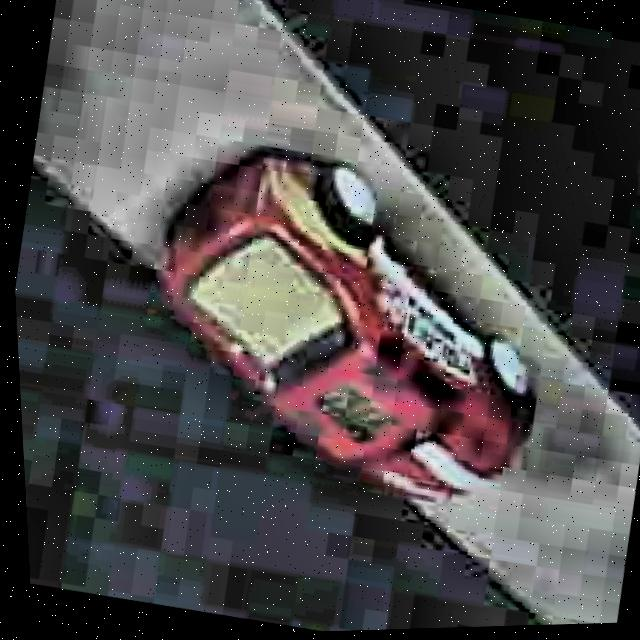car: (114, 116, 587, 534)
